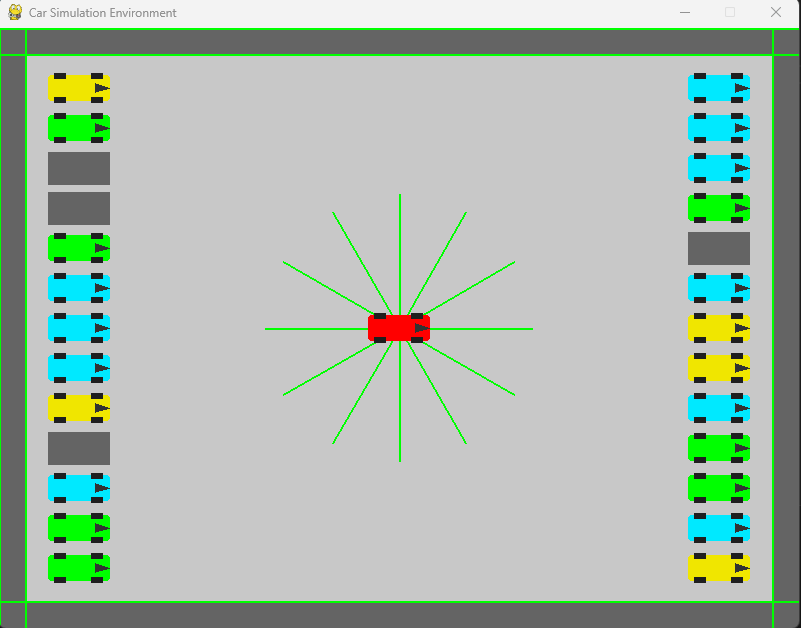ControlledCar: (366, 309, 440, 349)
ParkedCar: (44, 61, 113, 107), (41, 549, 117, 588), (683, 68, 755, 109), (682, 390, 754, 428), (42, 231, 113, 269), (44, 389, 113, 427), (680, 472, 757, 506), (43, 312, 117, 347), (683, 271, 756, 306), (682, 313, 756, 347), (685, 549, 753, 586), (684, 191, 754, 226), (684, 432, 758, 465), (687, 349, 754, 385), (681, 152, 754, 185), (42, 111, 115, 143), (45, 471, 112, 505), (685, 111, 752, 145), (44, 350, 113, 383), (687, 512, 758, 544), (44, 512, 112, 543), (43, 273, 111, 303)
ParkingSpot: (42, 427, 116, 469), (681, 229, 759, 267), (41, 151, 116, 187), (46, 189, 118, 226)
